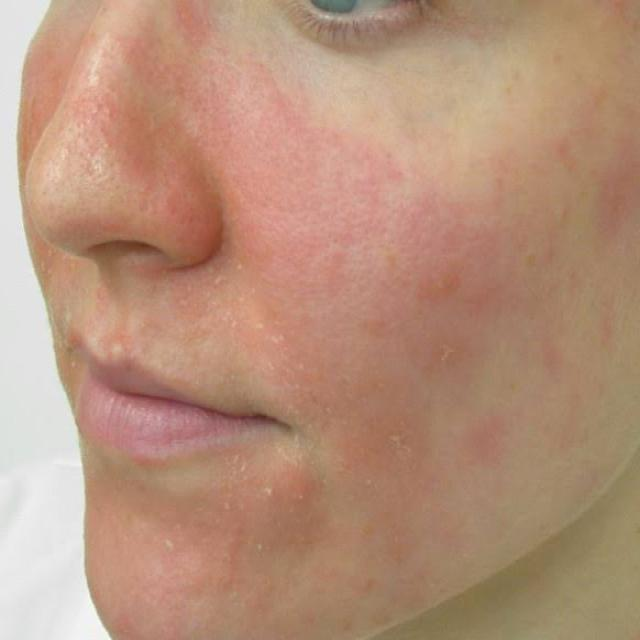Eczema Mild: (7, 38, 298, 245), (363, 155, 547, 423), (121, 463, 399, 607)
